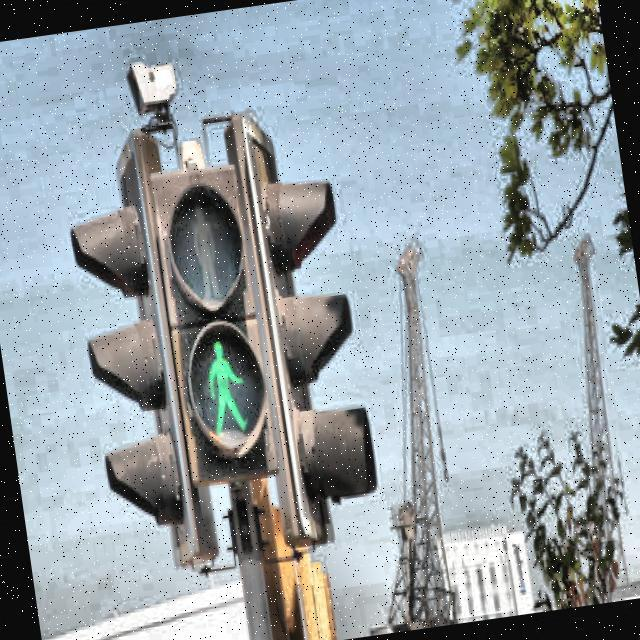green_light: (200, 334, 253, 444)
